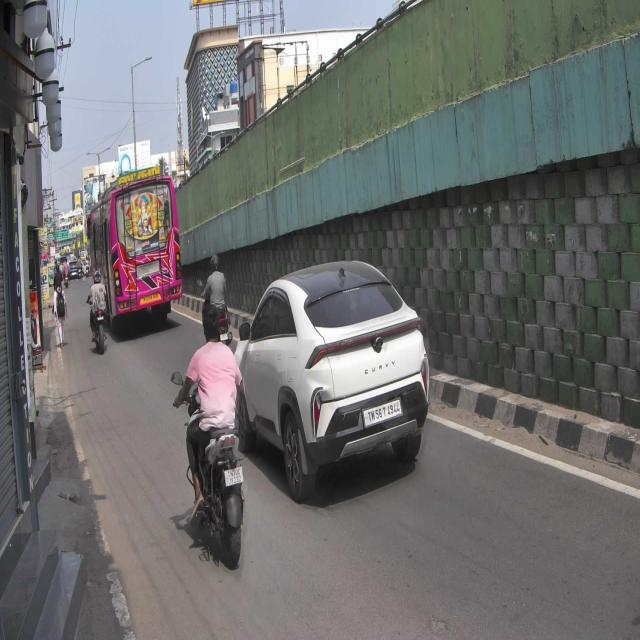single_rider: (172, 304, 252, 568)
